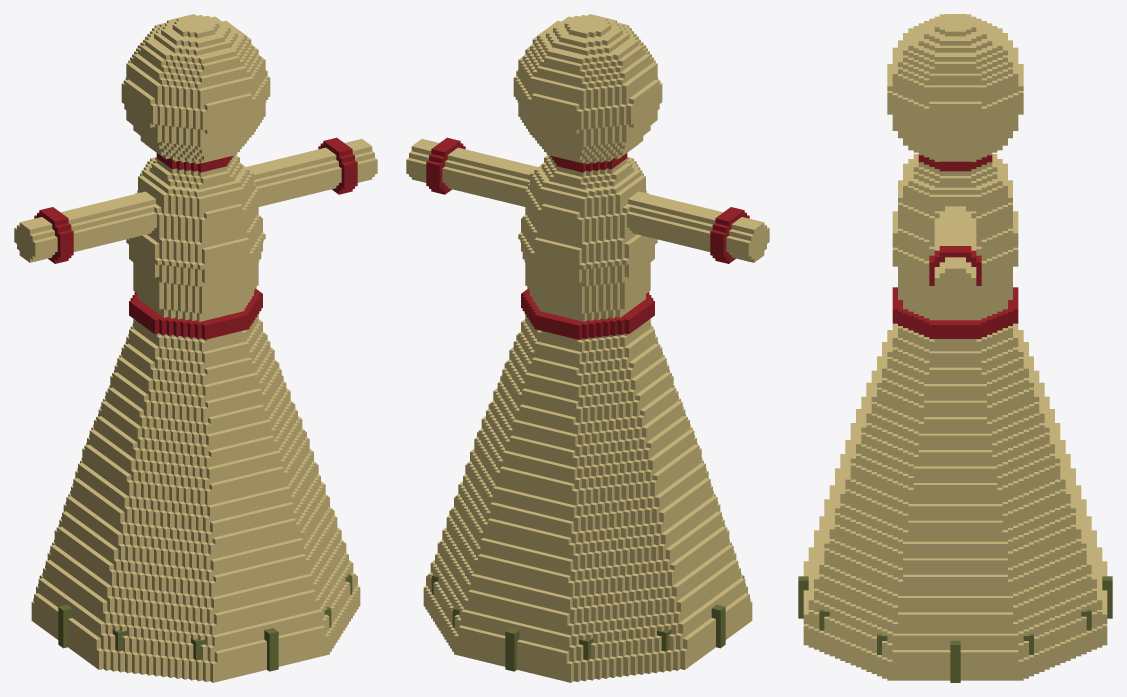
The model's file is straw_doll.glb.
3 renders of one model, left to right at view 1: azimuth 30°, elevation 25°; view 2: azimuth 150°, elevation 25°; view 3: azimuth 270°, elevation 25°, orthographic.
Parts seen in each view (by area): view 1: straw_doll:compound; view 2: straw_doll:compound; view 3: straw_doll:compound.
Part boxes in pixels (box(x1,y1,x2,y2)): straw_doll:compound: box(14, 14, 377, 682); straw_doll:compound: box(406, 14, 769, 682); straw_doll:compound: box(798, 14, 1112, 682).
Size of the model in its own units: 0.152 by 0.25 by 0.12.
